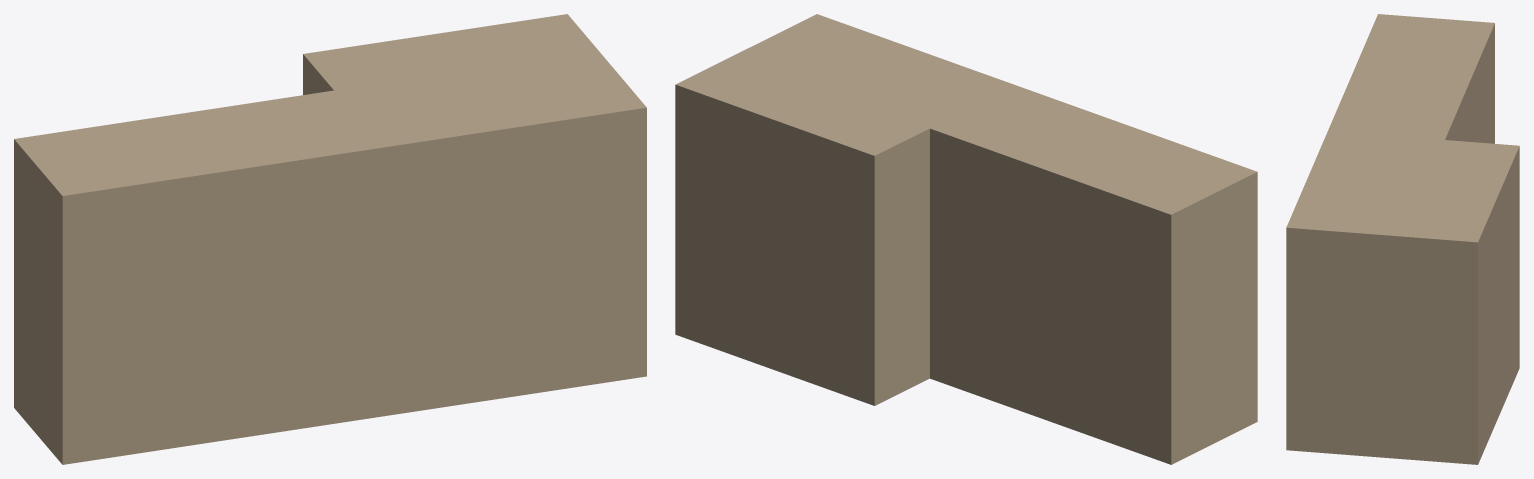
File: bld_101353612.dae
The picture shows the model from 3 angles, left to right: view 1: azimuth 30°, elevation 25°; view 2: azimuth 150°, elevation 25°; view 3: azimuth 270°, elevation 25°; orthographic projection. The views are drawn at different scales.
Visible parts, largest first — view 1: bld_101353612; view 2: bld_101353612; view 3: bld_101353612.
Boxes of the visible parts, <box> form: bld_101353612: <box>14,14,646,464</box>; bld_101353612: <box>675,14,1257,464</box>; bld_101353612: <box>1286,14,1519,464</box>.
Size of the model in its own units: 17.61 by 7.6 by 8.
